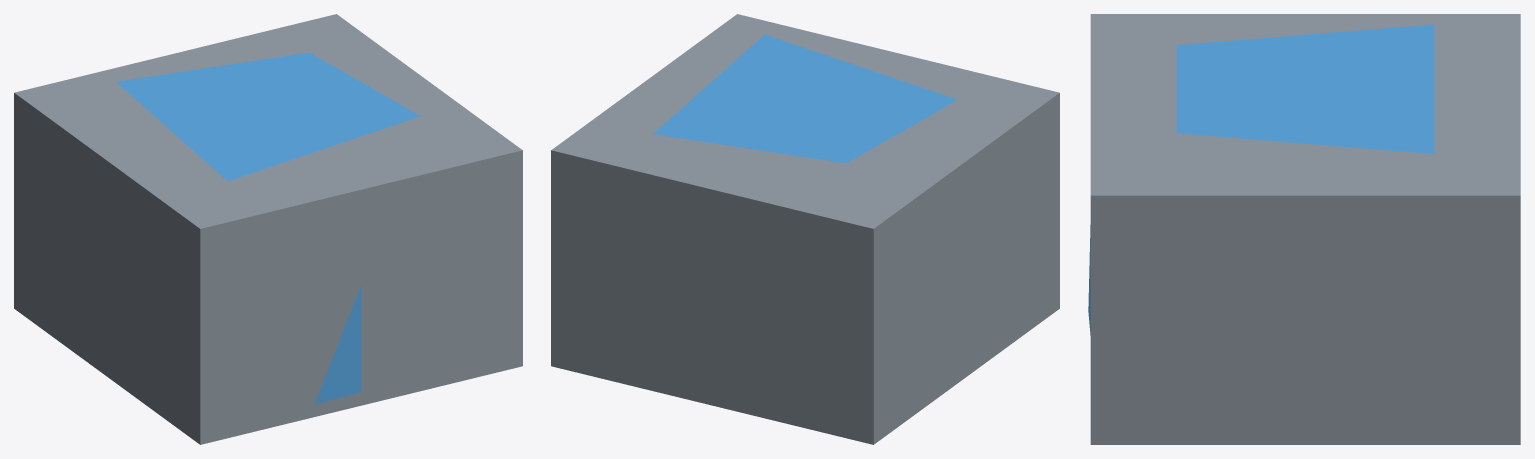
The model's file is AL_PowerPlant_LOD1.glb.
3 views of the same model, side by side, from view 1: azimuth 30°, elevation 25°; view 2: azimuth 150°, elevation 25°; view 3: azimuth 270°, elevation 25° (orthographic). The views are drawn at different scales.
Visible parts, largest first — view 1: EntranceGate; view 2: EntranceGate; view 3: EntranceGate.
Part boxes in pixels (x1,y1,x2,y2): EntranceGate: (14, 14, 522, 444); EntranceGate: (551, 14, 1059, 444); EntranceGate: (1088, 14, 1520, 444).
Bounding box in the file's own units: 600 × 424 × 603.
